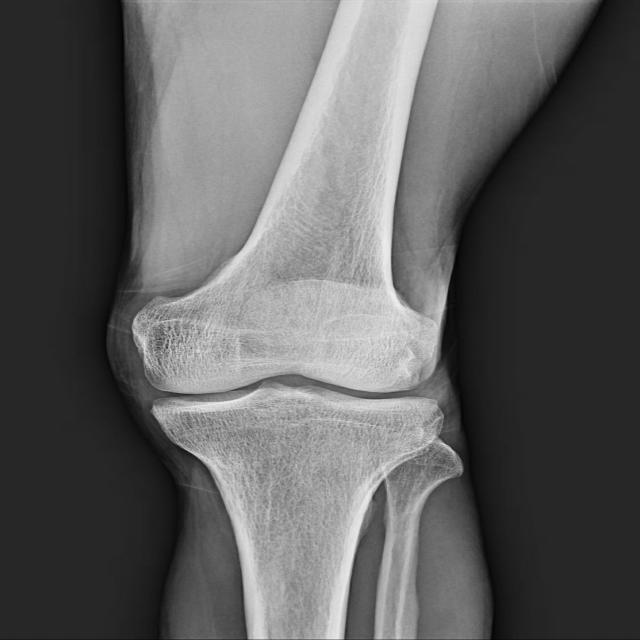normal: (133, 293, 459, 434)
